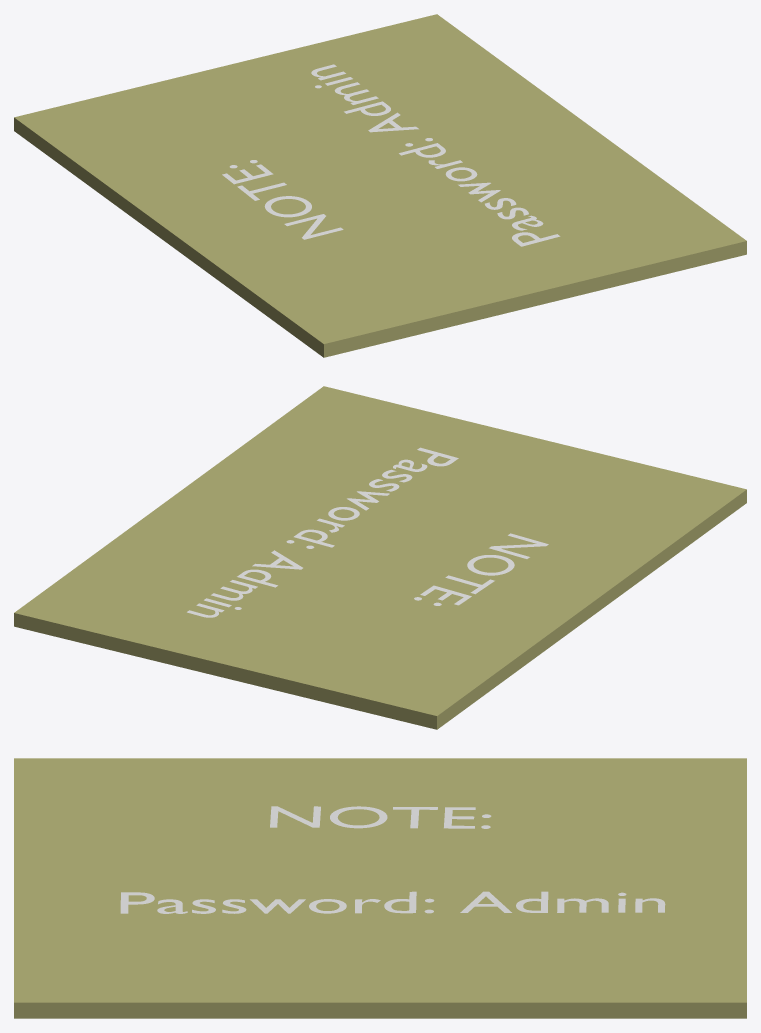
Rendered from Admin.fbx.
3 renders of one model, top to bottom at view 1: azimuth 30°, elevation 25°; view 2: azimuth 150°, elevation 25°; view 3: azimuth 270°, elevation 25°, orthographic. The views are drawn at different scales.
Parts seen in each view (by area): view 1: Cube, Text, Text.001; view 2: Cube, Text, Text.001; view 3: Cube, Text, Text.001.
Boxes of the visible parts, left/top/right/bottom form: Cube: left=14, top=14, right=746, bottom=357; Text: left=311, top=64, right=560, bottom=246; Text.001: left=222, top=160, right=343, bottom=239; Cube: left=14, top=386, right=746, bottom=729; Text: left=187, top=447, right=458, bottom=617; Text.001: left=414, top=533, right=548, bottom=605; Cube: left=14, top=758, right=746, bottom=1018; Text: left=120, top=891, right=665, bottom=913; Text.001: left=270, top=806, right=491, bottom=828.
Bounding box in the file's own units: 1151 × 58.44 × 1460.
